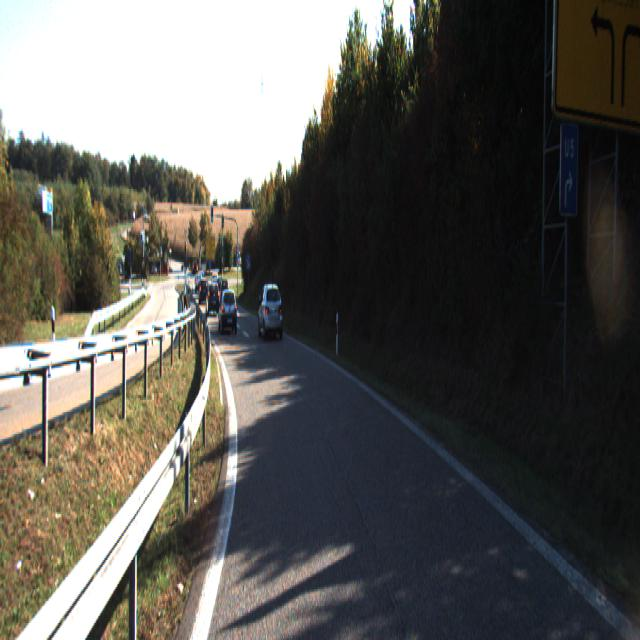Car: (258, 279, 284, 337), (218, 288, 238, 334), (206, 281, 220, 315)
